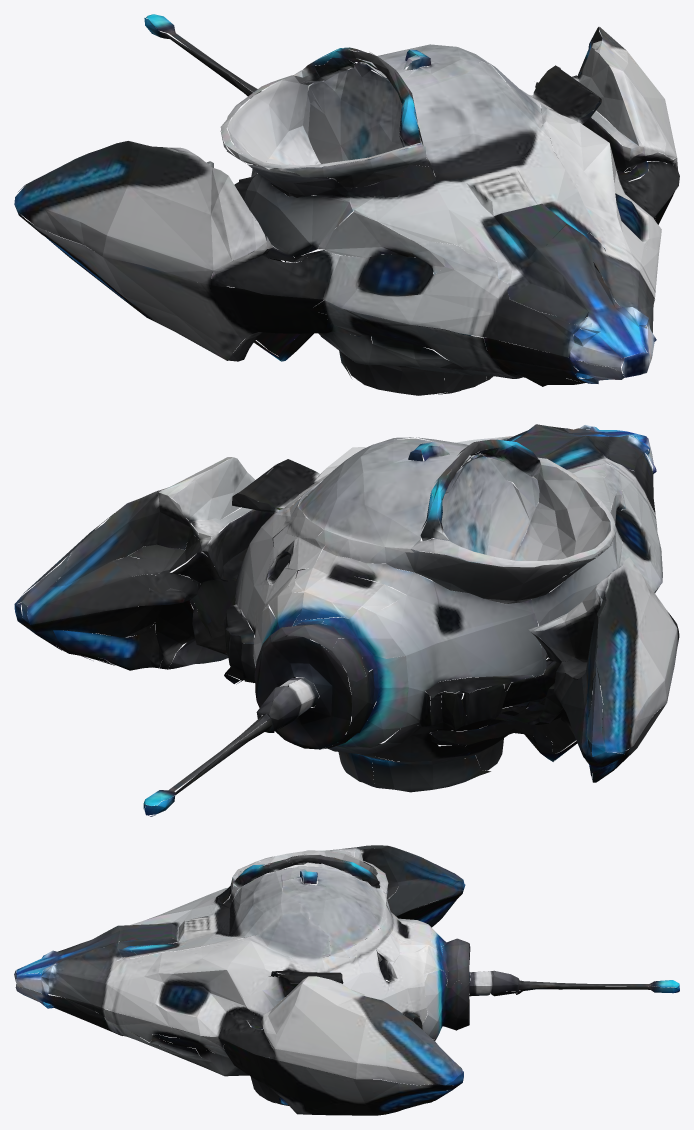
File: helios-scout.glb
3 views of the same model, one above another, from view 1: azimuth 30°, elevation 25°; view 2: azimuth 150°, elevation 25°; view 3: azimuth 270°, elevation 25° (orthographic). The views are drawn at different scales.
Visible parts, largest first — view 1: world; view 2: world; view 3: world.
Part boxes in pixels (x1=…): world: x1=14, y1=14, x2=679, y2=395; world: x1=14, y1=424, x2=679, y2=816; world: x1=14, y1=845, x2=679, y2=1115.
Bounding box in the file's own units: 0.7181 × 0.3802 × 1.
Materials: 1 (1 with a texture image).
